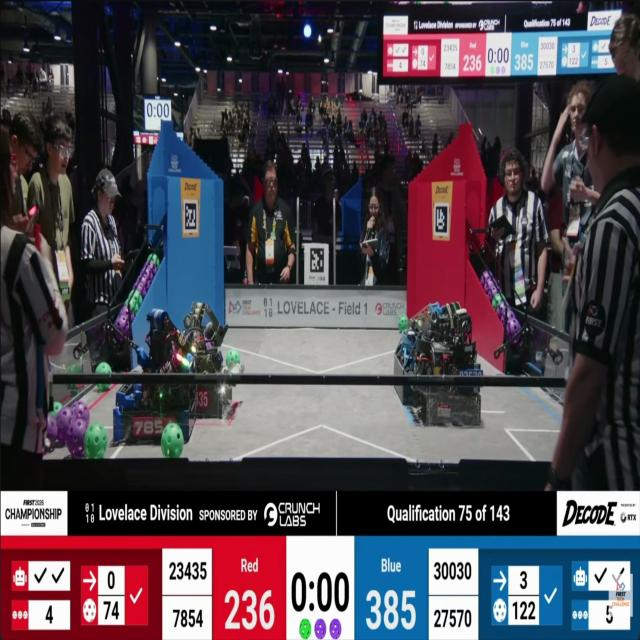artifact_green: (85, 423, 108, 459), (161, 423, 183, 457), (130, 291, 142, 315), (226, 349, 240, 367), (131, 291, 142, 313), (492, 293, 505, 310), (300, 619, 311, 639), (398, 314, 409, 333), (50, 402, 62, 418), (68, 362, 83, 374), (96, 362, 111, 374), (124, 290, 134, 306), (68, 363, 82, 374), (149, 254, 160, 267), (97, 383, 109, 392), (452, 303, 461, 311), (147, 254, 155, 263), (417, 319, 422, 329)
artifact_purple: (67, 419, 87, 457), (56, 407, 74, 443), (72, 400, 89, 422), (47, 413, 57, 448), (116, 314, 130, 336), (507, 319, 520, 339), (497, 302, 507, 324), (330, 619, 341, 639), (315, 619, 326, 639), (487, 283, 498, 301), (140, 279, 149, 299), (487, 272, 497, 287), (142, 270, 152, 285), (137, 276, 146, 292), (133, 273, 142, 289), (492, 279, 501, 293), (144, 279, 151, 296), (121, 307, 130, 320), (507, 308, 515, 322), (142, 281, 149, 297), (139, 272, 147, 285), (146, 263, 155, 274), (480, 272, 487, 286), (483, 281, 490, 294), (148, 272, 155, 284), (151, 264, 157, 275), (130, 310, 135, 322)
